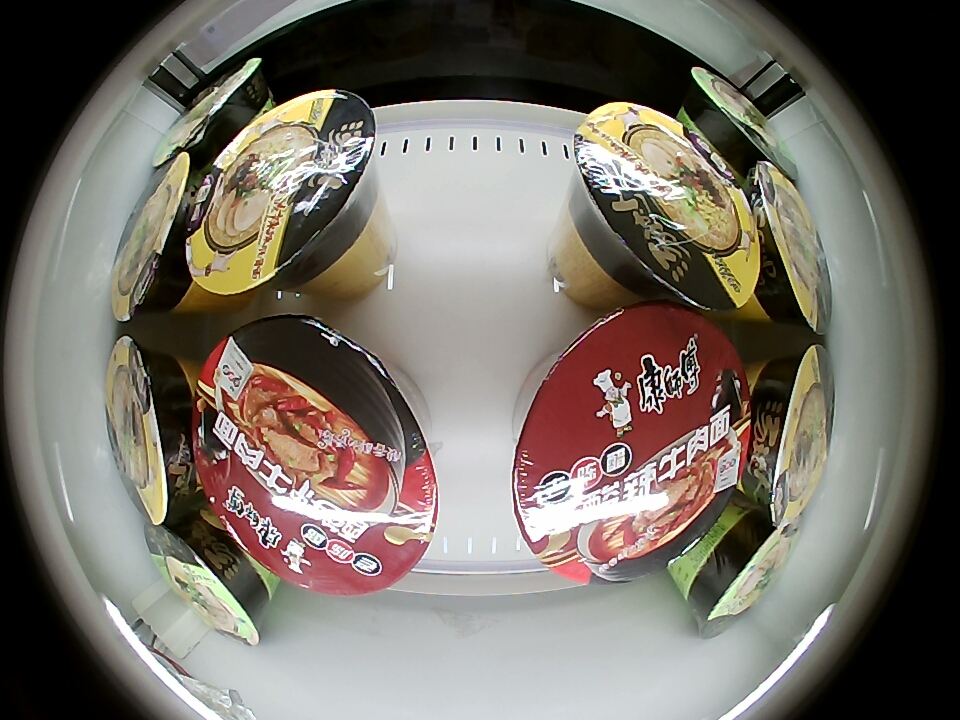suanlaniurou: (193, 312, 438, 597), (512, 304, 752, 575)
tangdaren: (143, 515, 268, 649), (687, 509, 803, 641), (150, 55, 270, 169), (684, 64, 799, 181)
tangdaren2: (186, 87, 378, 296), (571, 100, 759, 311), (103, 334, 201, 526), (742, 342, 836, 528), (106, 152, 202, 322), (743, 161, 835, 334)
